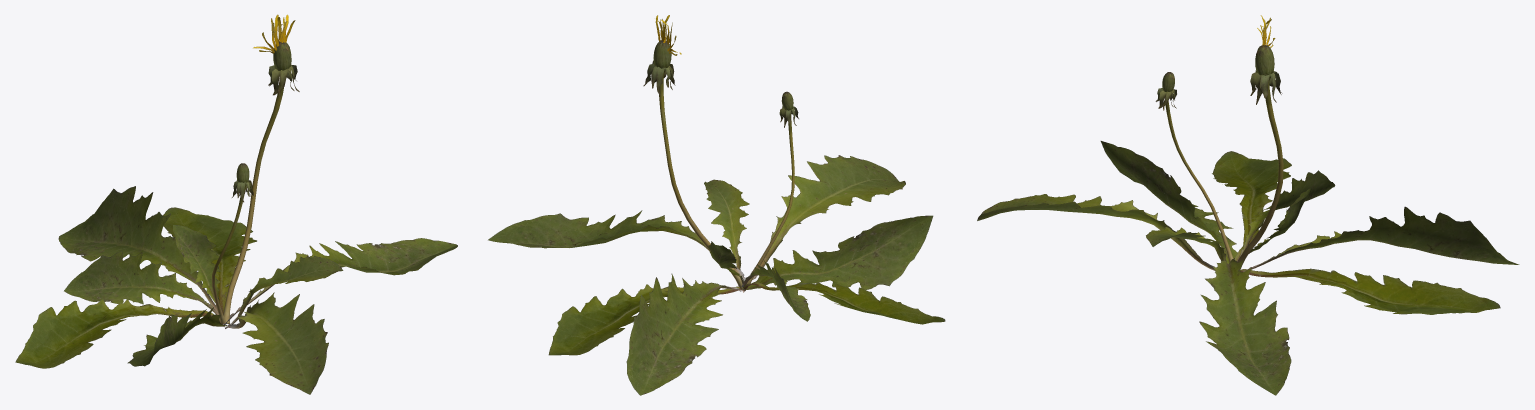
The model's file is dandelion_01_03.glb.
The picture shows the model from 3 angles, left to right: view 1: azimuth 30°, elevation 25°; view 2: azimuth 150°, elevation 25°; view 3: azimuth 270°, elevation 25°; orthographic projection. The views are drawn at different scales.
Visible parts, largest first — view 1: dandelion_01; view 2: dandelion_01; view 3: dandelion_01.
Boxes of the visible parts, x1,y1,x2,y2 form: dandelion_01: (15, 14, 457, 394); dandelion_01: (488, 15, 945, 395); dandelion_01: (977, 15, 1519, 395).
Size of the model in its own units: 0.1699 by 0.1009 by 0.1671.
Materials: 1 (1 with a texture image).
